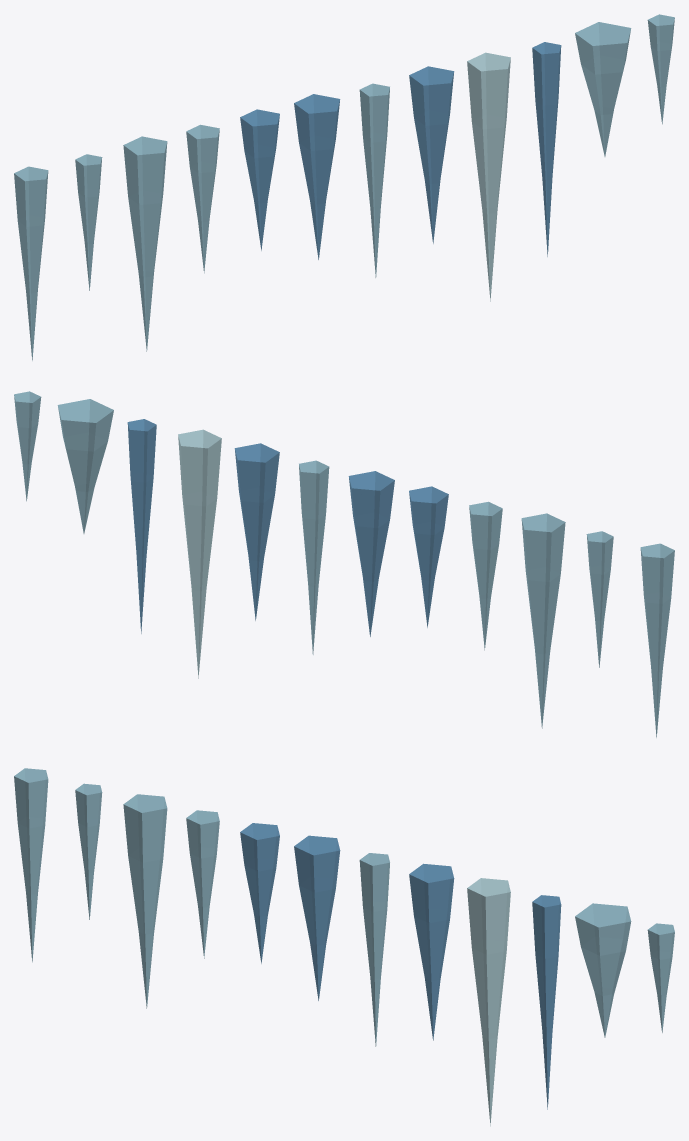
The model's file is overlay_1.fbx.
3 renders of one model, top to bottom at view 1: azimuth 30°, elevation 25°; view 2: azimuth 150°, elevation 25°; view 3: azimuth 330°, elevation 25°, orthographic.
Parts seen in each view (by area): view 1: overlay_1; view 2: overlay_1; view 3: overlay_1.
Part boxes in pixels (left/top/right/bottom): overlay_1: left=14, top=14, right=674, bottom=360; overlay_1: left=14, top=391, right=674, bottom=737; overlay_1: left=14, top=768, right=674, bottom=1126.
Size of the model in its own units: 3.75 by 1.31 by 0.2852.
